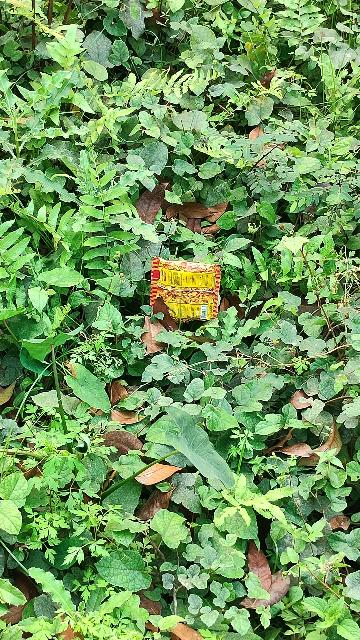packet: (141, 259, 232, 326)
